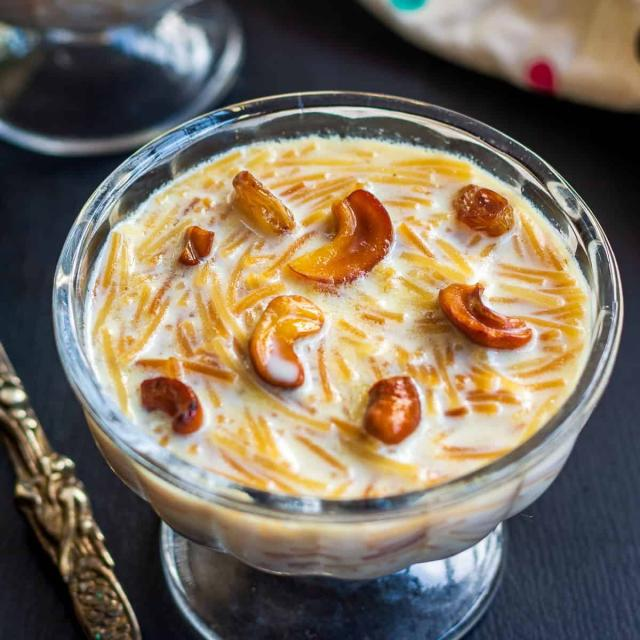shavige payasa: (69, 102, 615, 532)
